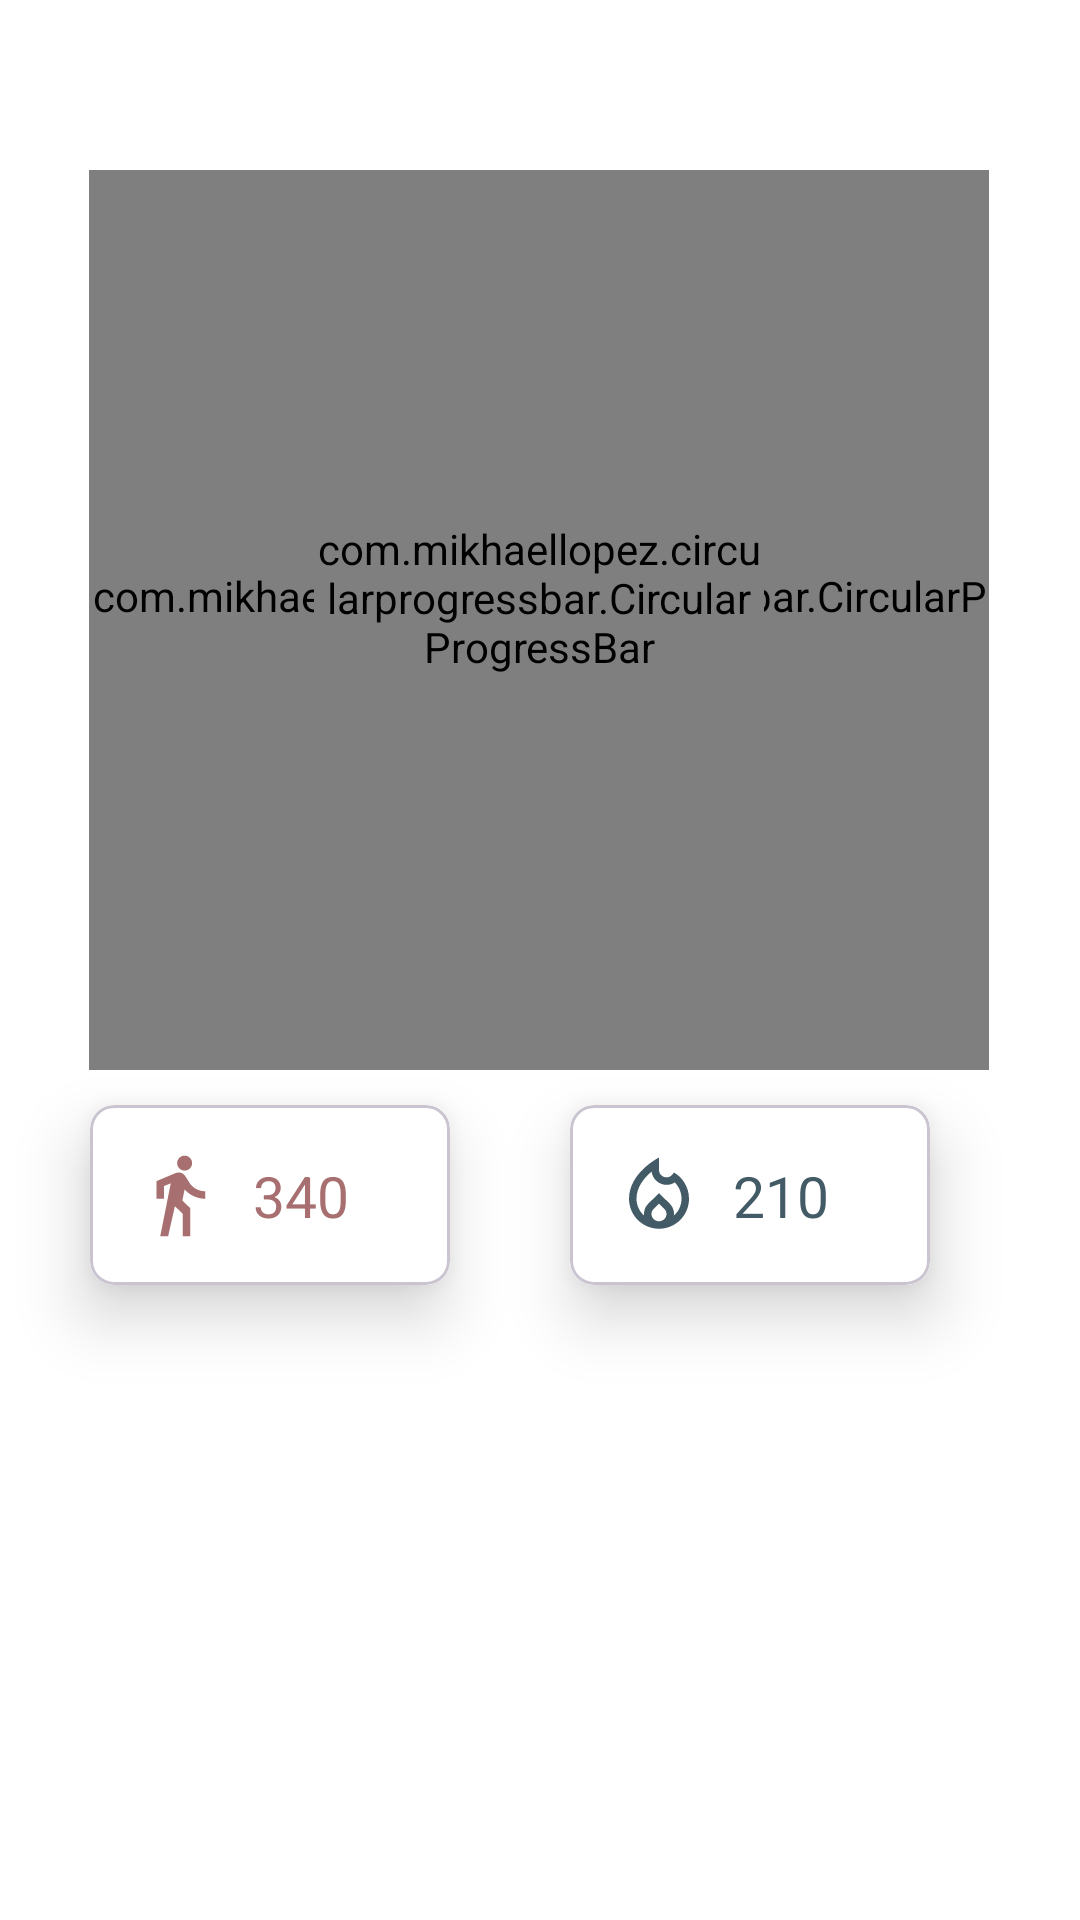

Icons on this 1080*1920 Android screen, each with its box as (x1, y1, x2, y2):
calories: (629, 1157, 689, 1229)
steps: (156, 1155, 206, 1237)
